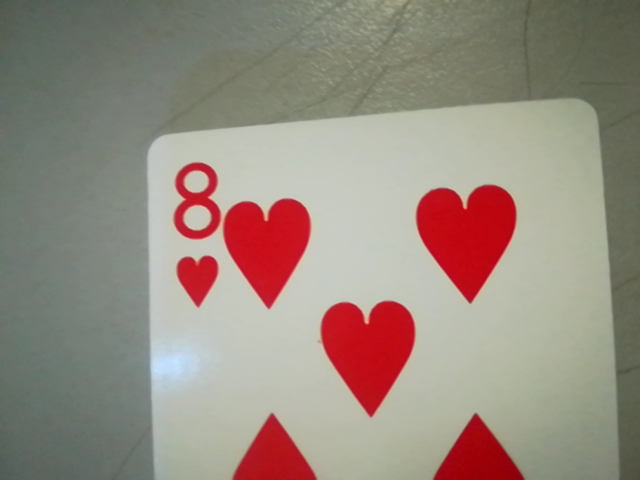hx 8: (158, 153, 228, 318)
